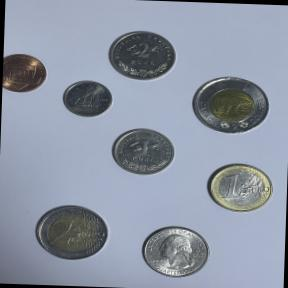1 Euro: (202, 160, 276, 217)
2 Euro: (29, 202, 113, 266)
Canda-10cent-: (56, 76, 115, 124)
Canda-2Dollar-: (186, 72, 272, 138)
Croatia-2Kune-: (102, 27, 179, 84)
US-1cent-: (1, 50, 50, 97)
US-25cent-: (136, 221, 216, 283)
